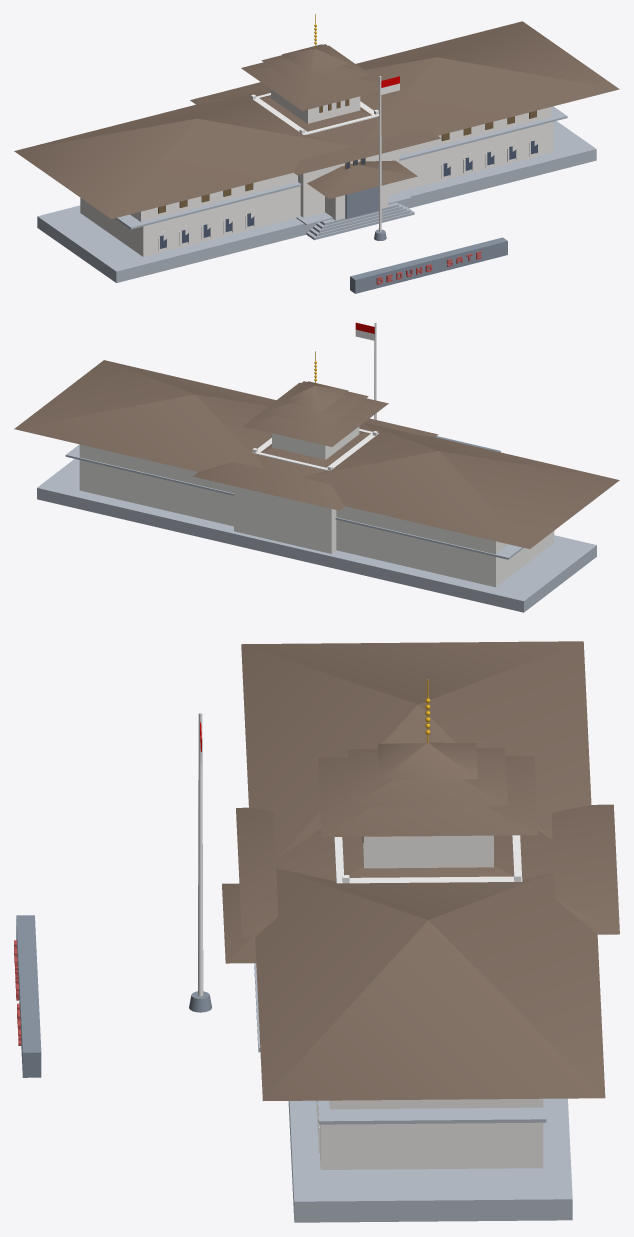
Rendered from gedungsate.glb.
3 renders of one model, top to bottom at view 1: azimuth 30°, elevation 25°; view 2: azimuth 150°, elevation 25°; view 3: azimuth 270°, elevation 25°, orthographic. The views are drawn at different scales.
Parts seen in each view (by area): view 1: GedungSateV5Landmark; view 2: GedungSateV5Landmark; view 3: GedungSateV5Landmark.
Boxes of the visible parts, x1=… form: GedungSateV5Landmark: x1=14, y1=21, x2=619, y2=293; GedungSateV5Landmark: x1=14, y1=322, x2=619, y2=612; GedungSateV5Landmark: x1=14, y1=641, x2=619, y2=1222.
Bounding box in the file's own units: 23.45 × 7.75 × 13.06.
